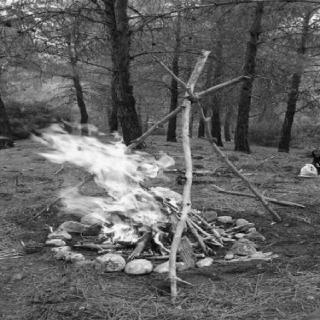Fire: (15, 114, 217, 264)
